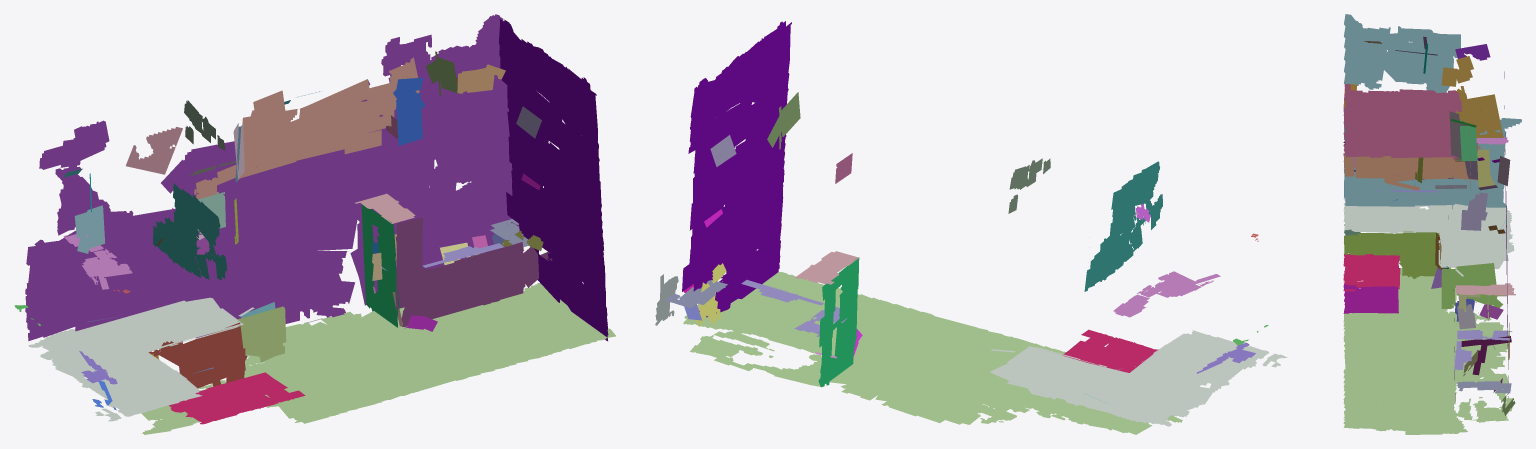
File: 0a7cc12c0e_simple.glb
The picture shows the model from 3 angles, left to right: view 1: azimuth 30°, elevation 25°; view 2: azimuth 150°, elevation 25°; view 3: azimuth 270°, elevation 25°; orthographic projection. The views are drawn at different scales.
Size of the model in its own units: 6.96 by 3.59 by 2.39.
